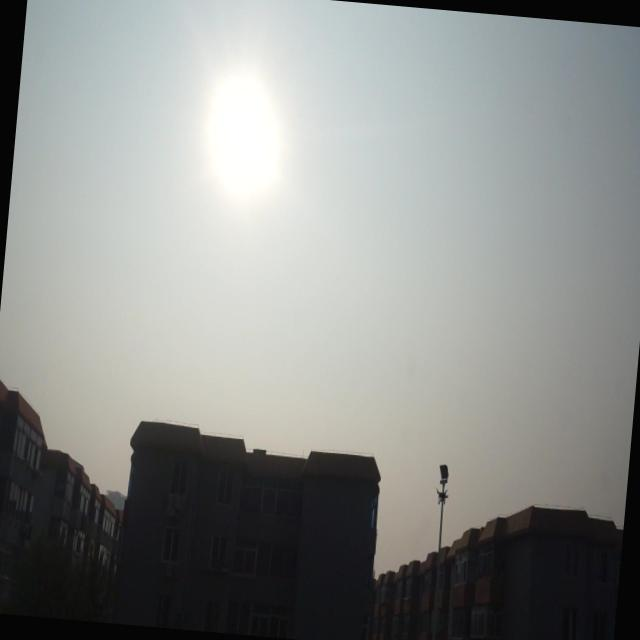drone: (431, 483, 451, 511)
